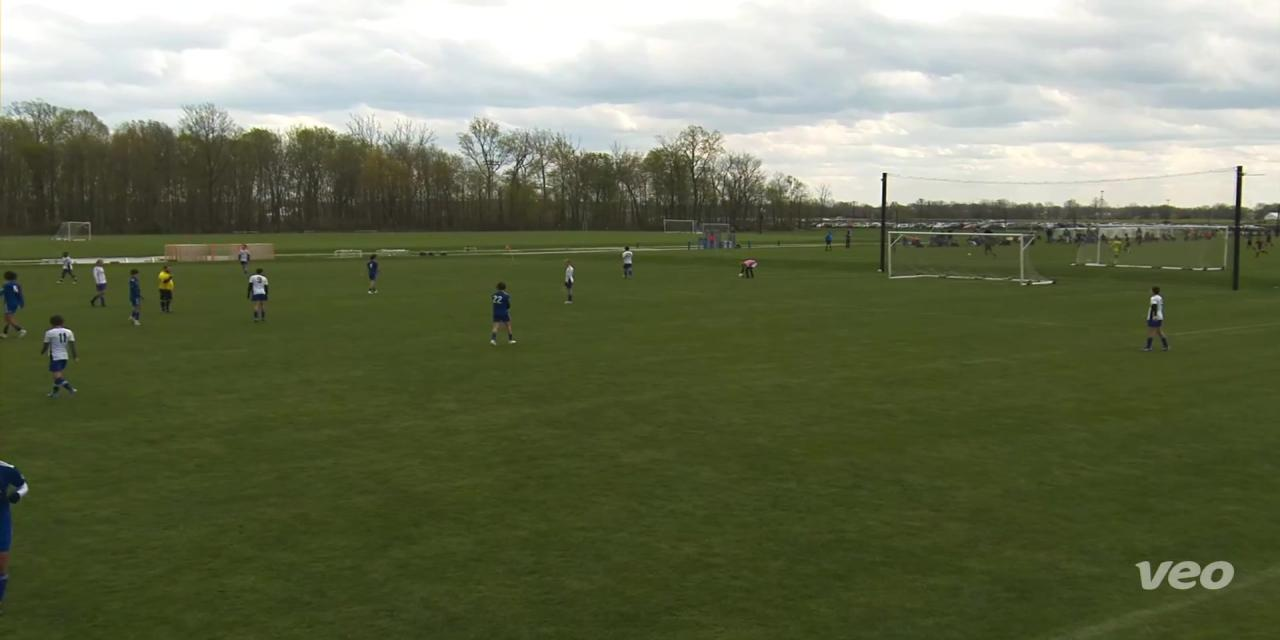goal: (880, 218, 1062, 288)
sports ball: (736, 266, 749, 282)
